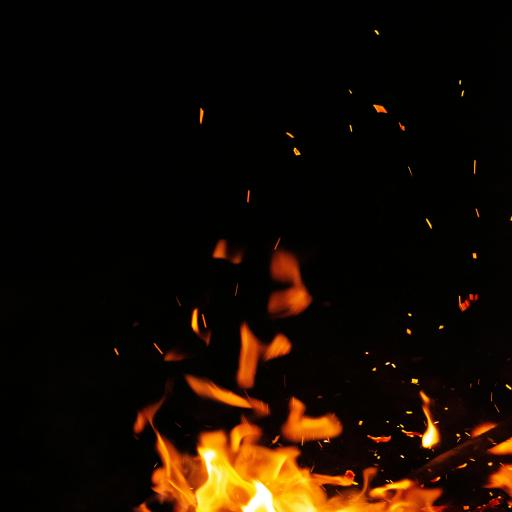fire: (34, 195, 512, 512)
